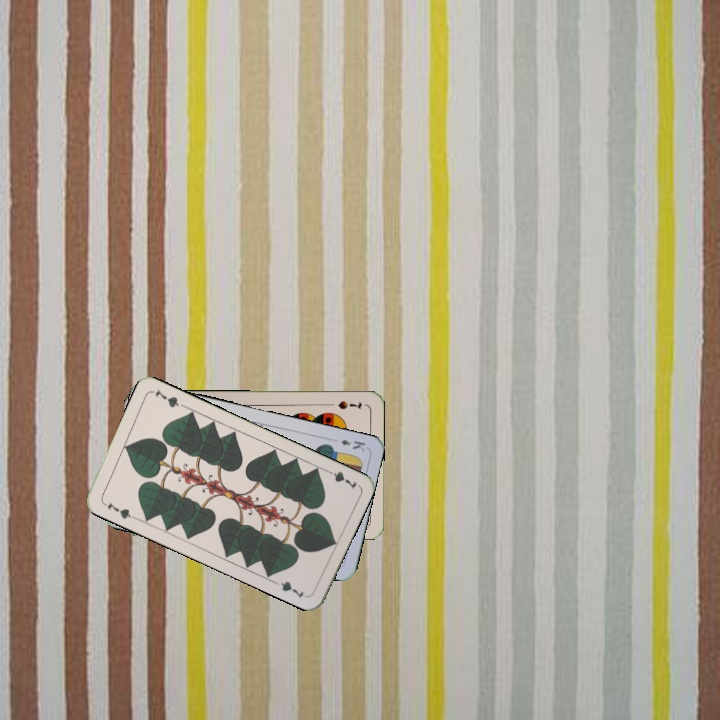EK: (336, 435, 368, 454)
G7: (321, 465, 360, 492), (99, 498, 137, 522)
S7: (334, 397, 364, 412)
